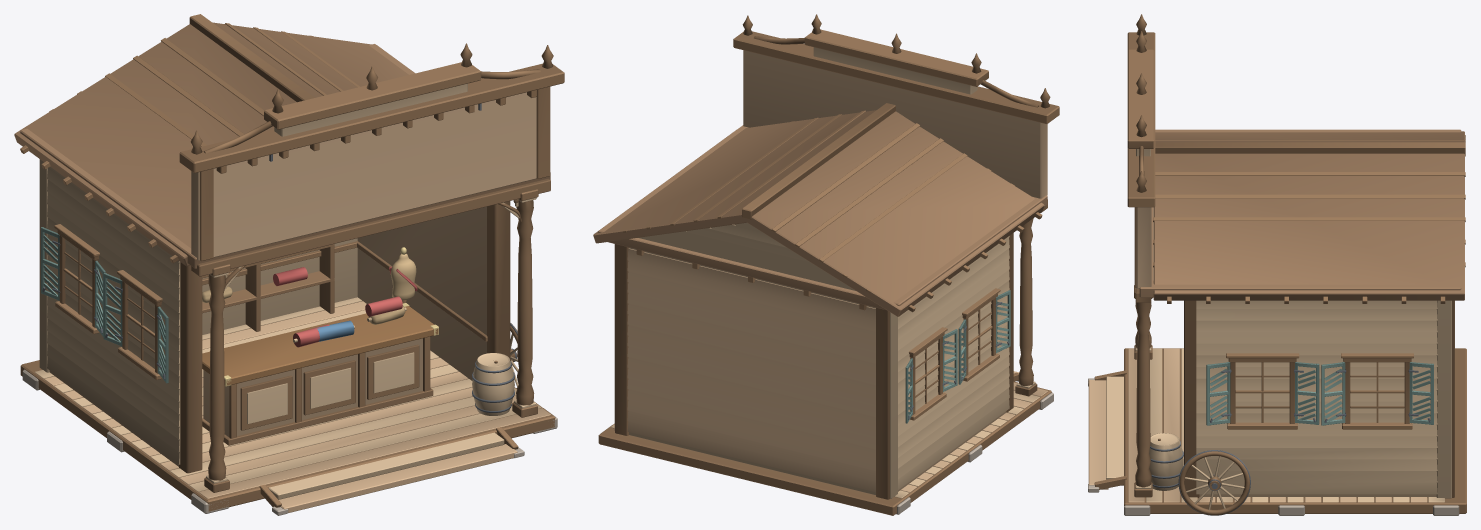
The model's file is tailor.glb.
The picture shows the model from 3 angles, left to right: view 1: azimuth 30°, elevation 25°; view 2: azimuth 150°, elevation 25°; view 3: azimuth 270°, elevation 25°; orthographic projection. The views are drawn at different scales.
Visible parts, largest first — view 1: TailorArchitecture; view 2: TailorArchitecture; view 3: TailorArchitecture.
Boxes of the visible parts, x1=… form: TailorArchitecture: x1=14, y1=14, x2=564, y2=515; TailorArchitecture: x1=593, y1=14, x2=1059, y2=515; TailorArchitecture: x1=1088, y1=14, x2=1466, y2=515.
Size of the model in its own units: 6.24 by 6.38 by 6.01.
